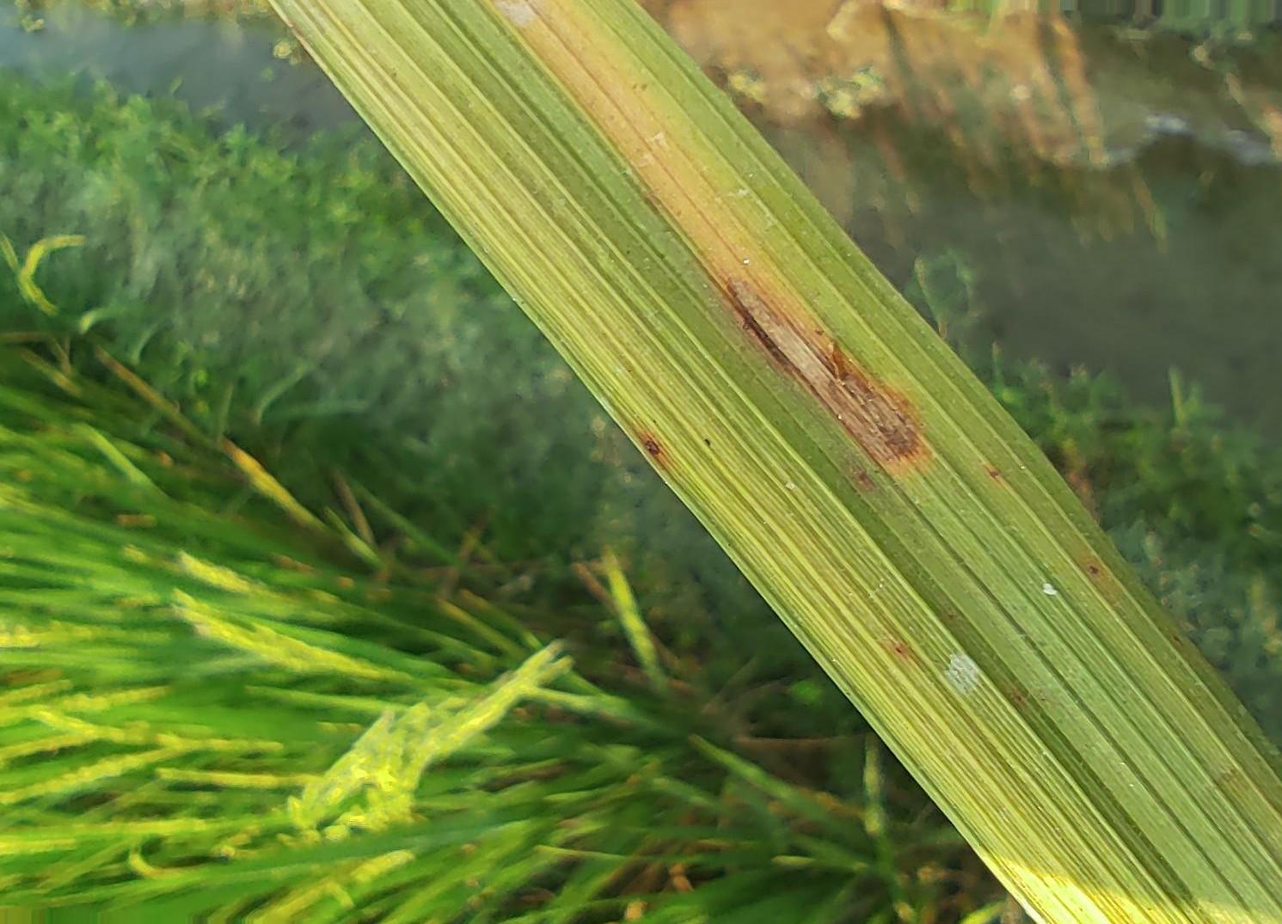LEAF: (273, 0, 1281, 923)
LEAF BLAST: (724, 276, 927, 466), (638, 426, 675, 469)
